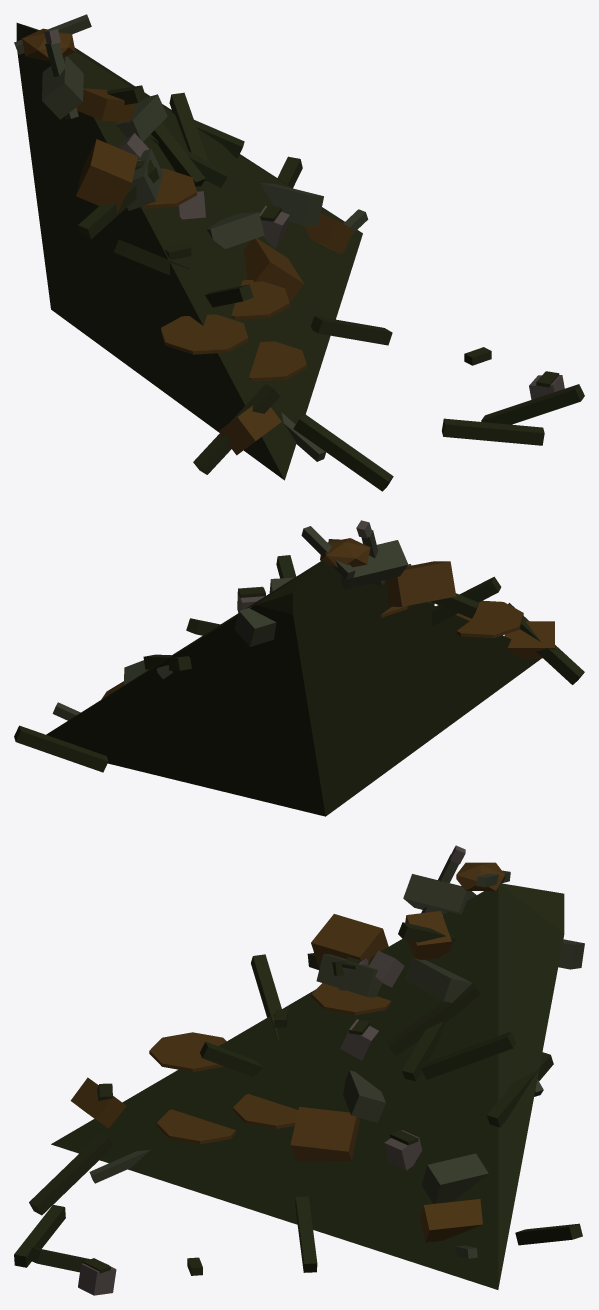
File: SM_PilaZombi_RemateDer_Altura5_s1_LOD0.fbx
3 renders of one model, top to bottom at view 1: azimuth 30°, elevation 25°; view 2: azimuth 150°, elevation 25°; view 3: azimuth 270°, elevation 25°, orthographic. The views are drawn at different scales.
Visible parts, largest first — view 1: SM_pila_zombis_v9_LOD0; view 2: SM_pila_zombis_v9_LOD0; view 3: SM_pila_zombis_v9_LOD0.
Boxes of the visible parts, box(x1,y1,x2,y2) form: SM_pila_zombis_v9_LOD0: box(14, 14, 584, 491); SM_pila_zombis_v9_LOD0: box(14, 520, 584, 816); SM_pila_zombis_v9_LOD0: box(14, 845, 584, 1295).
Bounding box in the file's own units: 3.48 × 2.87 × 4.75.
